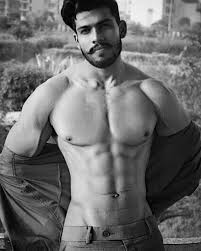Indian_Male: (70, 1, 130, 68)
